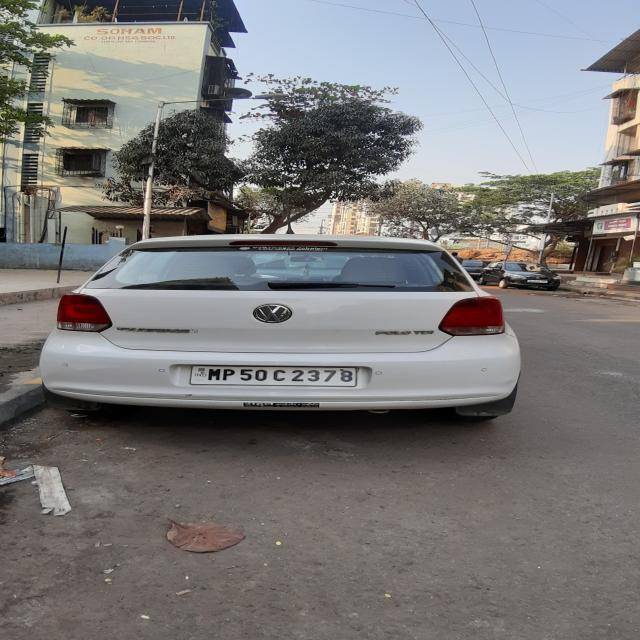Number-Plate: (192, 365, 360, 386)
